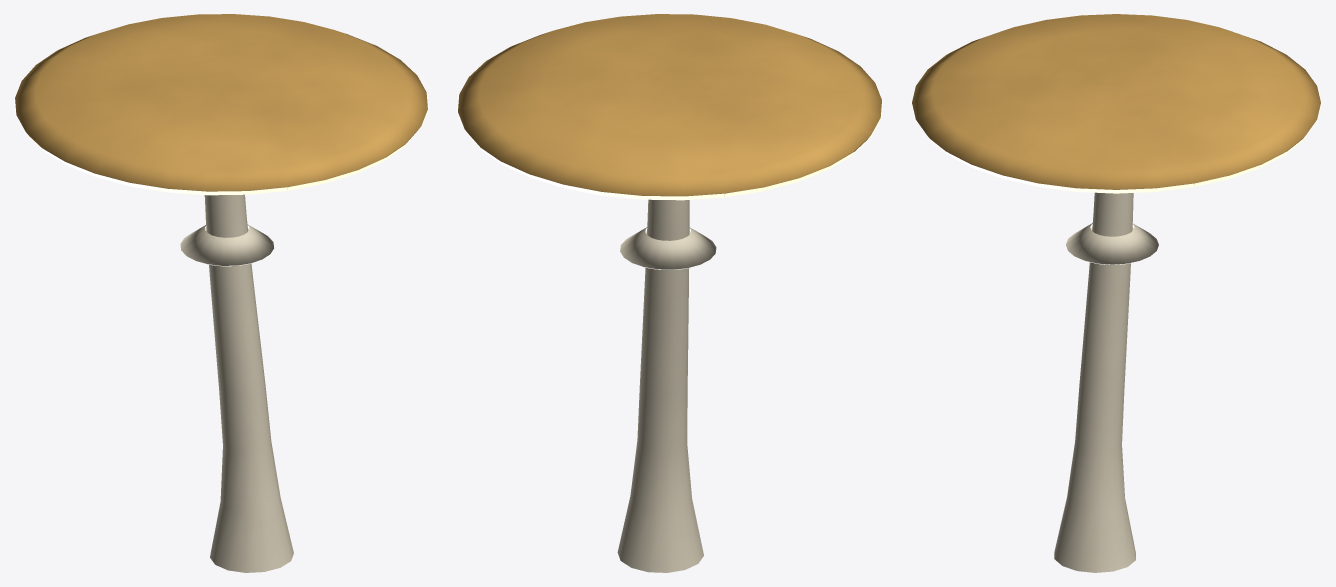
File: houba_slunecnik.glb
3 views of the same model, side by side, from view 1: azimuth 30°, elevation 25°; view 2: azimuth 150°, elevation 25°; view 3: azimuth 270°, elevation 25° (orthographic). The views are drawn at different scales.
Parts seen in each view (by area): view 1: houba_tren, noc; view 2: houba_tren, noc; view 3: houba_tren, noc.
Boxes of the visible parts, x1,y1,x2,y2 form: houba_tren: (15,14,427,572); noc: (14,60,428,266); houba_tren: (458,14,881,572); noc: (457,61,882,269); houba_tren: (912,14,1320,572); noc: (911,42,1321,264).
Size of the model in its own units: 7.21 by 9.08 by 7.21.
Materials: 2 (1 with a texture image).
